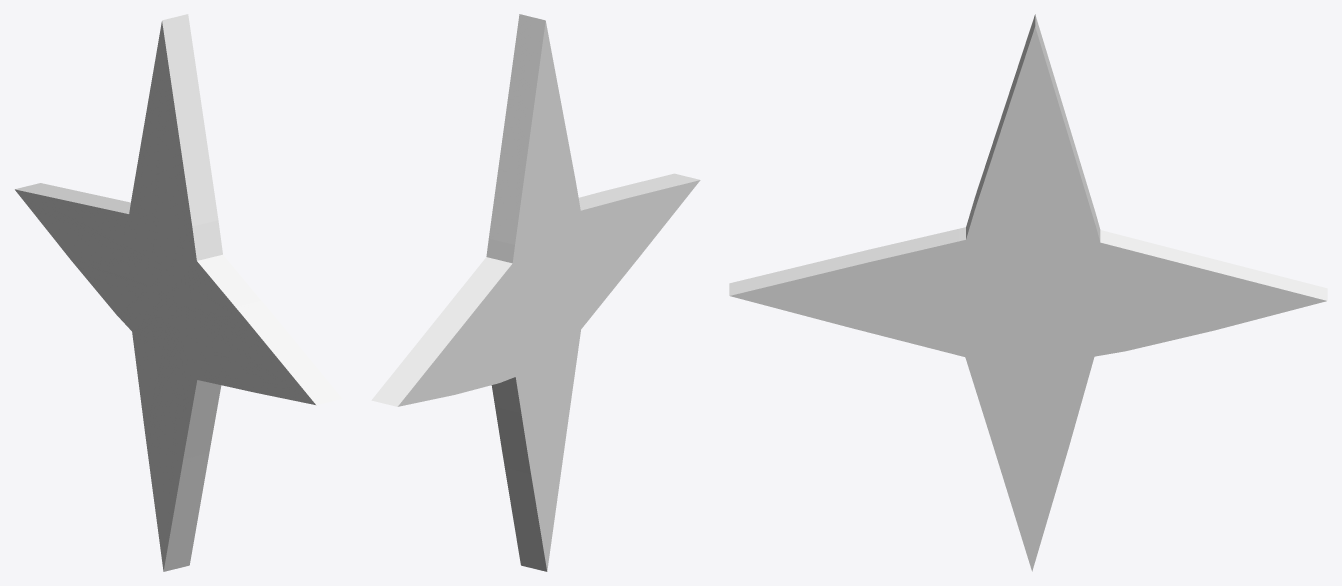
The model's file is Star1.obj.
The picture shows the model from 3 angles, left to right: view 1: azimuth 30°, elevation 25°; view 2: azimuth 150°, elevation 25°; view 3: azimuth 270°, elevation 25°; orthographic projection.
Parts seen in each view (by area): view 1: Star1; view 2: Star1; view 3: Star1.
Part boxes in pixels (x1,y1,x2,y2): Star1: [15, 14, 342, 571]; Star1: [371, 14, 700, 571]; Star1: [729, 14, 1327, 571].
Size of the model in its own units: 0.0585 by 1.18 by 1.17.
